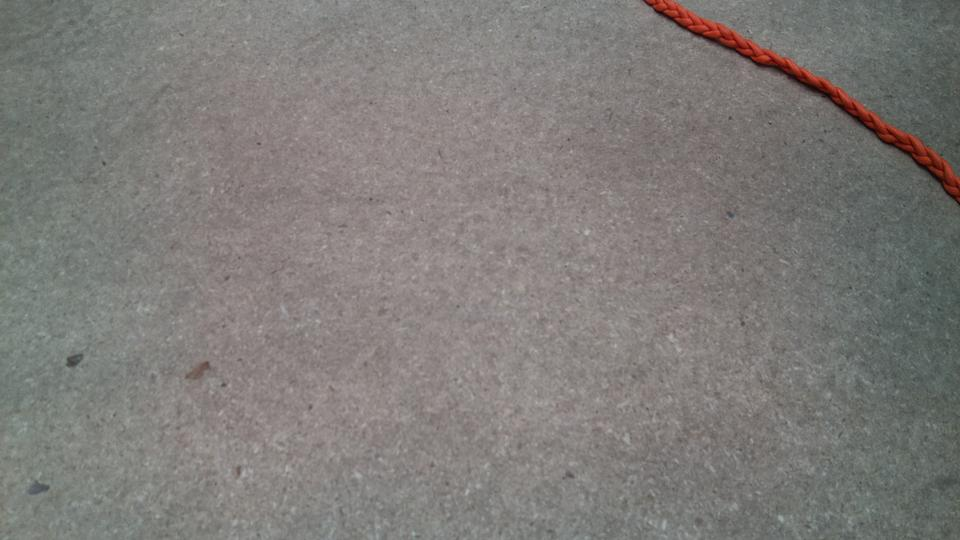rope: (656, 1, 960, 184)
